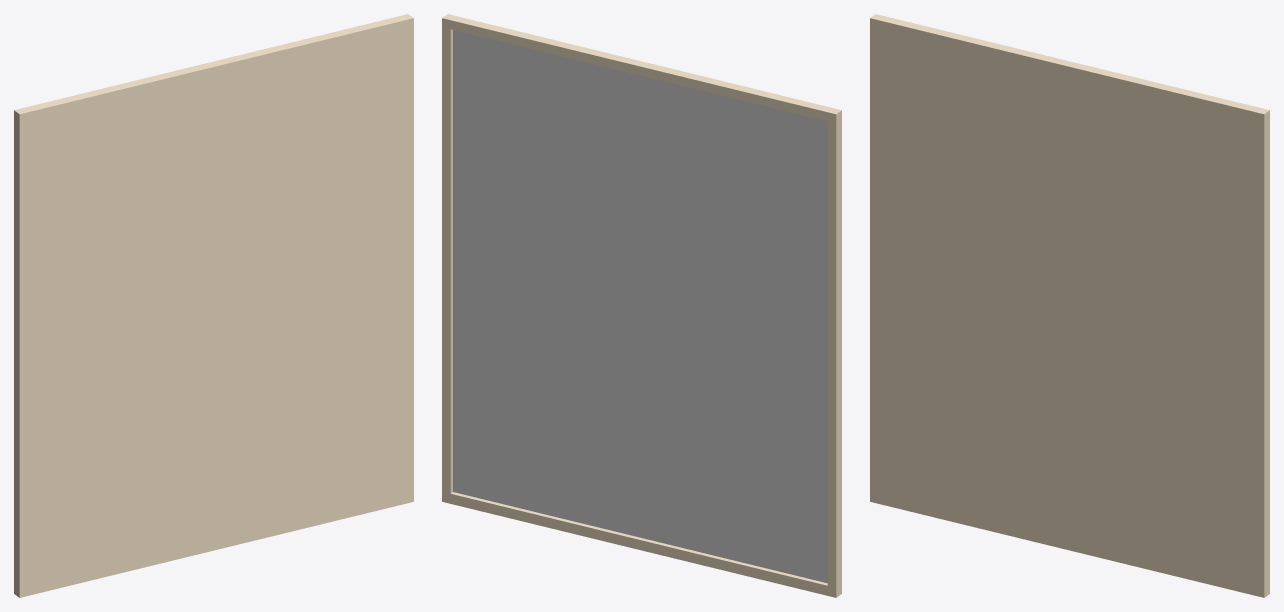
Rendered from Mirror.fbx.
3 views of the same model, side by side, from view 1: azimuth 30°, elevation 25°; view 2: azimuth 150°, elevation 25°; view 3: azimuth 330°, elevation 25° (orthographic).
Parts seen in each view (by area): view 1: Mirror; view 2: MirrorPlane, Mirror; view 3: Mirror.
Boxes of the visible parts, x1,y1,x2,y2 form: Mirror: [14, 14, 413, 597]; MirrorPlane: [453, 30, 827, 583]; Mirror: [442, 14, 841, 597]; Mirror: [870, 14, 1269, 597].
Bounding box in the file's own units: 103 × 121 × 2.57.
